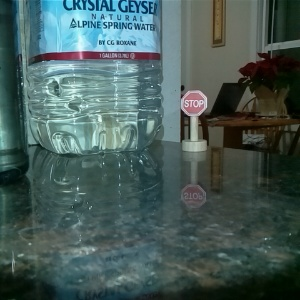stop sign: (178, 89, 209, 154)
